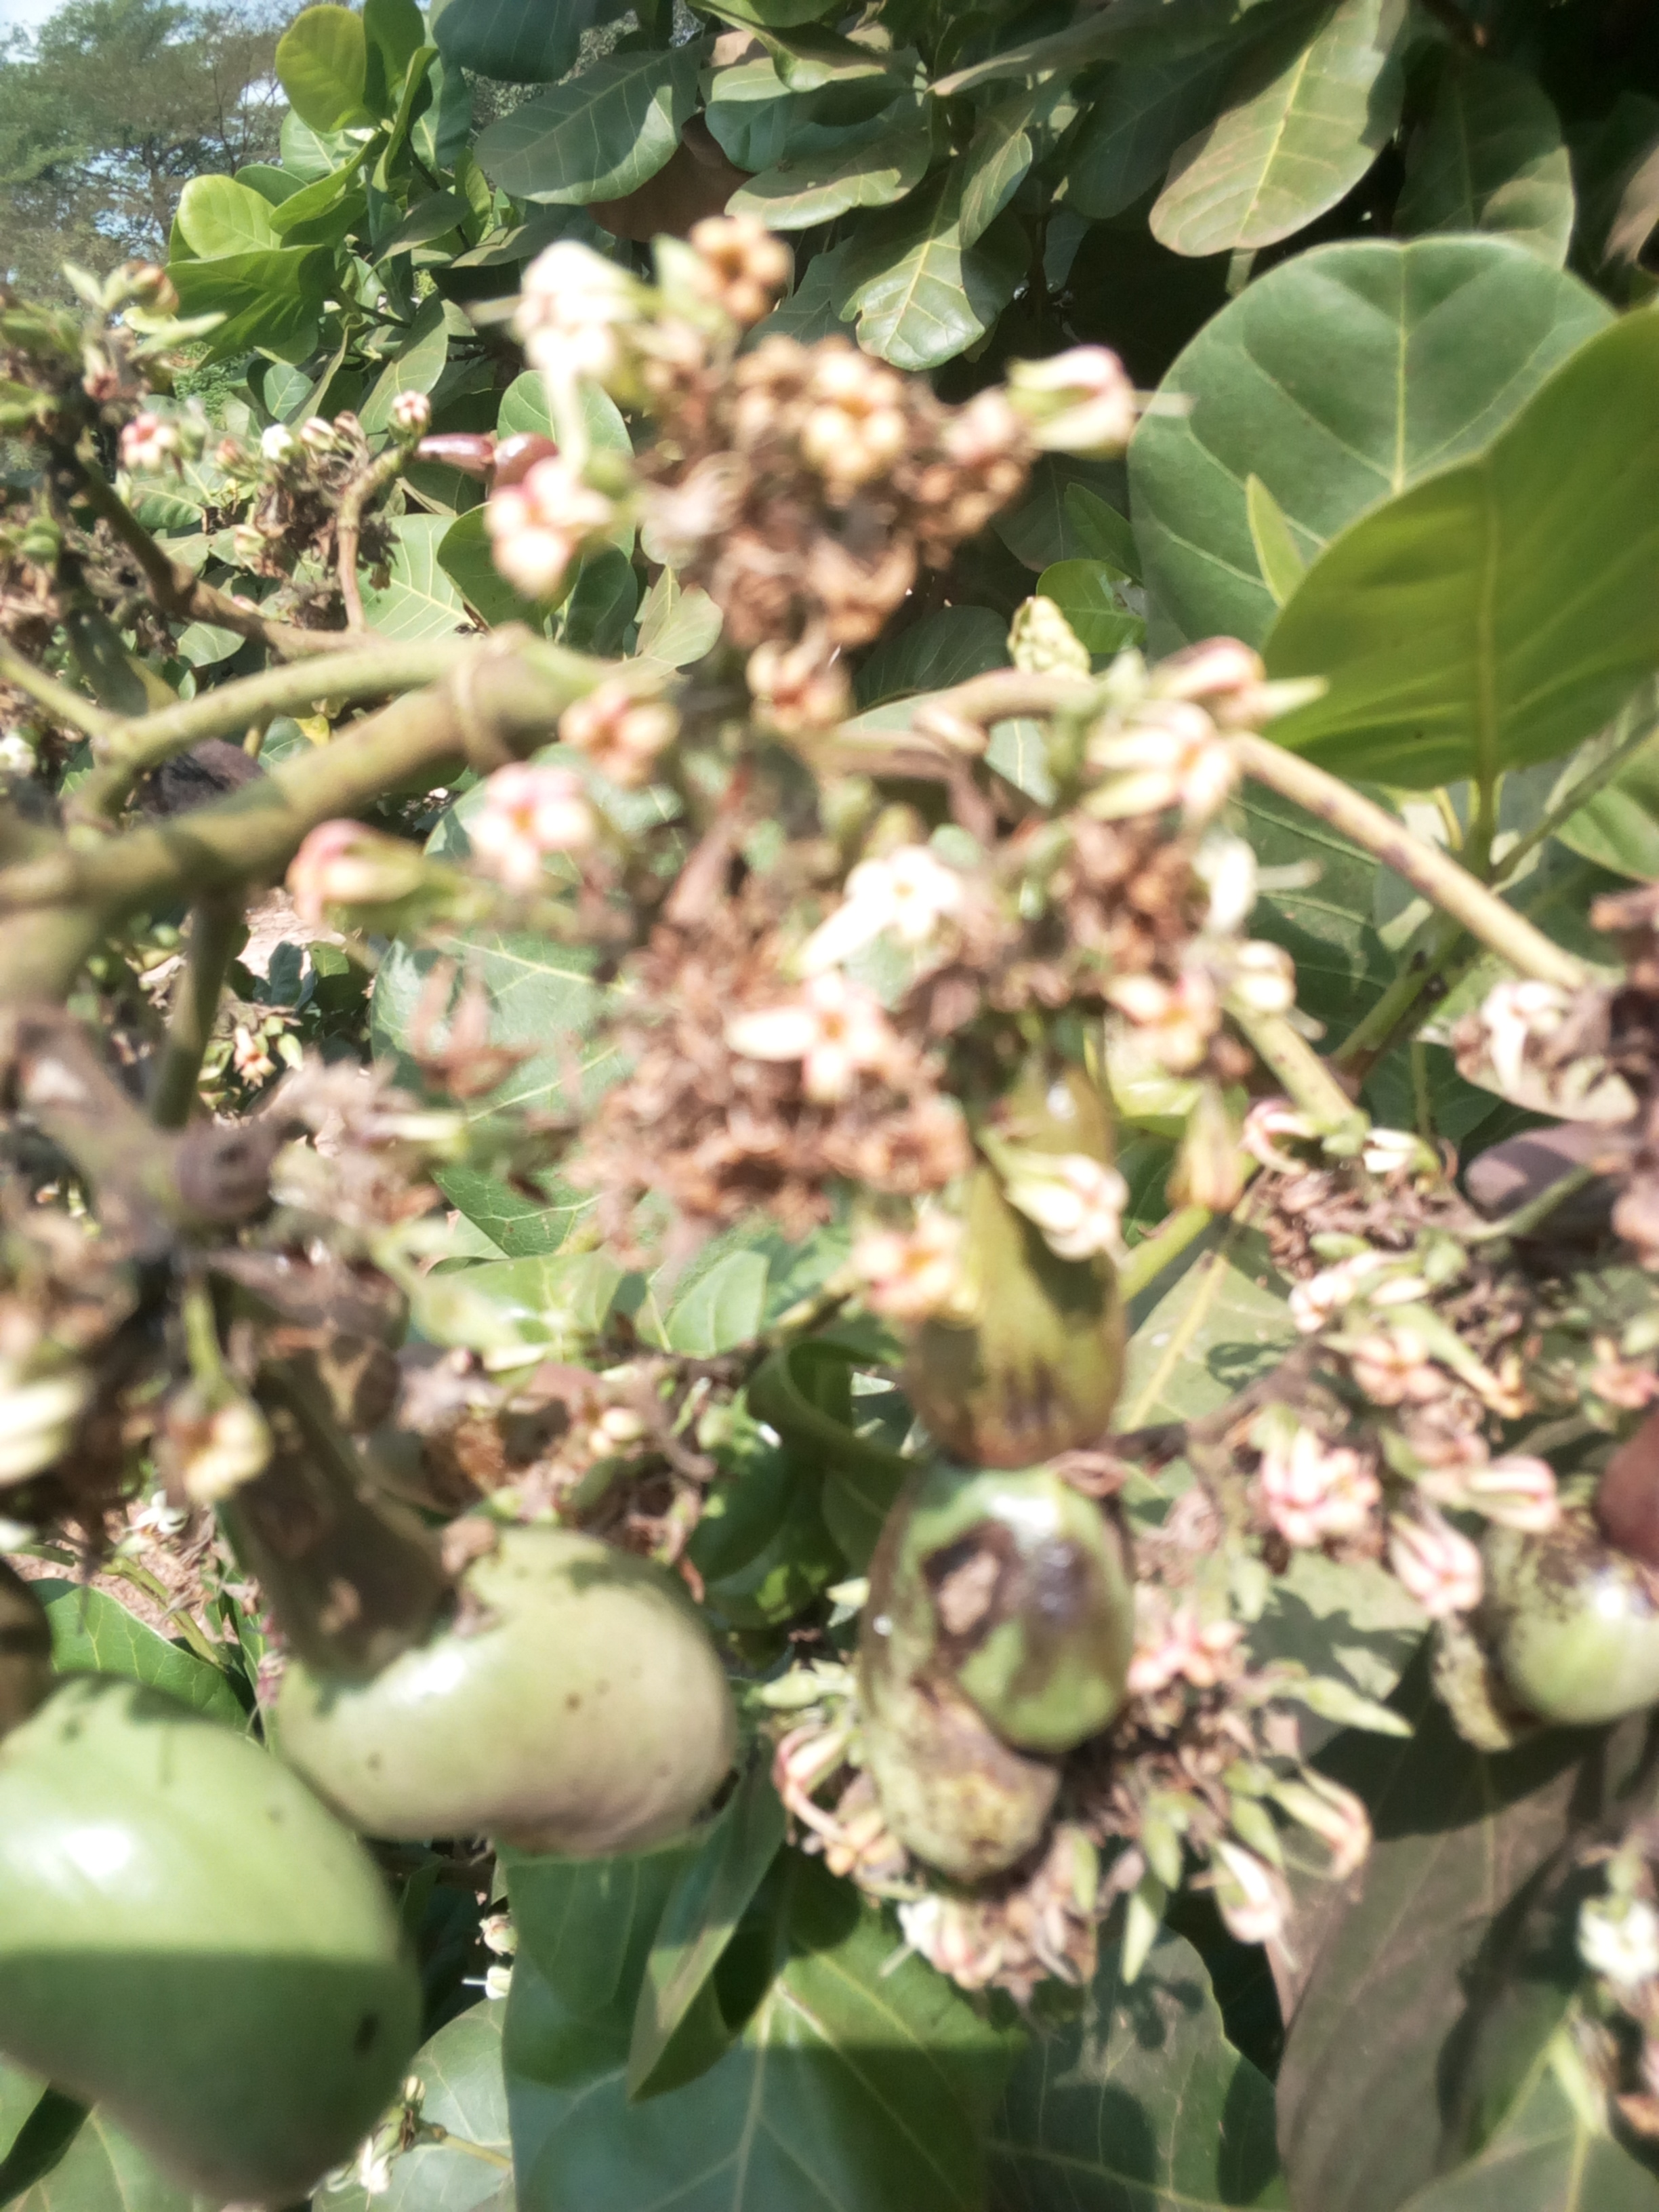Bactériose: (897, 1475, 1141, 1757)
